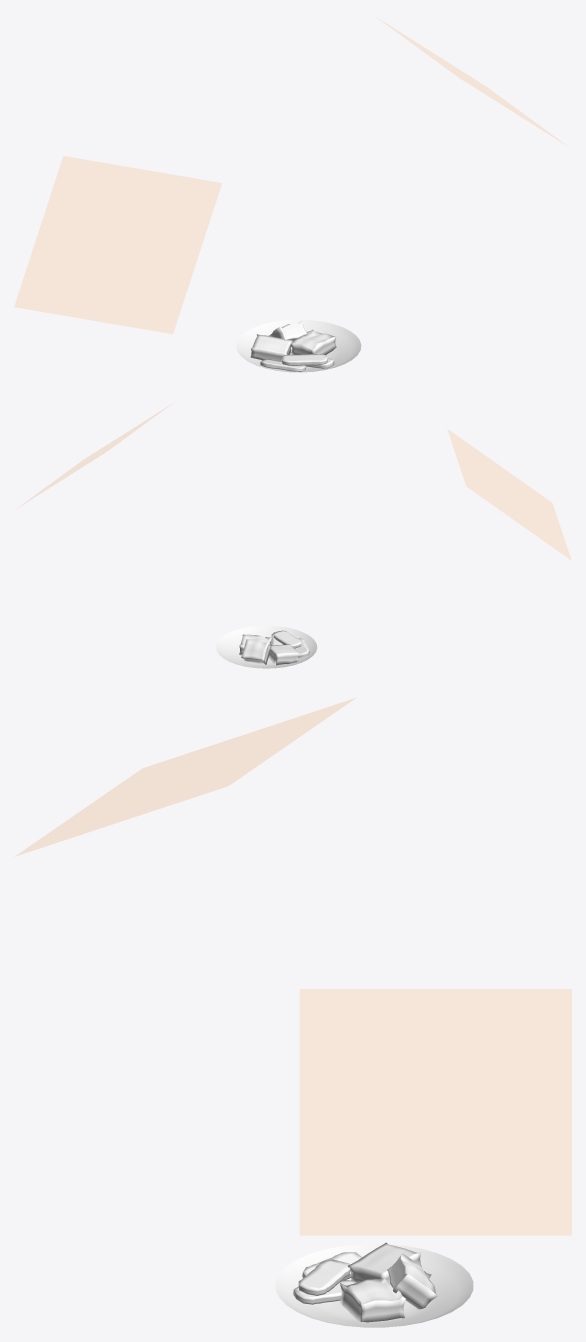
Rendered from gorengan.gltf.
3 views of the same model, one above another, from view 1: azimuth 30°, elevation 25°; view 2: azimuth 150°, elevation 25°; view 3: azimuth 270°, elevation 25° (orthographic). The views are drawn at different scales.
Parts seen in each view (by area): view 1: Plane.002, plate, Plane.001, tahu utuh, tahu utuh.001, tempe.001, tahu iris; view 2: Plane.002, plate, Plane.001, tahu iris, tahu utuh.001; view 3: Plane.001, Plane.002, plate, tahu utuh, tahu iris, tahu utuh.001, tempe.001.
Boxes of the visible parts, <box> form: Plane.002: <box>14,156,222,334</box>; plate: <box>236,319,361,372</box>; Plane.001: <box>375,16,569,147</box>; tahu utuh: <box>291,329,336,354</box>; tahu utuh.001: <box>250,334,292,361</box>; tempe.001: <box>281,354,327,365</box>; tahu iris: <box>268,321,307,340</box>; Plane.002: <box>447,428,571,560</box>; plate: <box>216,625,317,668</box>; Plane.001: <box>16,403,172,508</box>; tahu iris: <box>241,639,271,664</box>; tahu utuh.001: <box>268,644,299,665</box>; Plane.001: <box>299,989,571,1235</box>; Plane.002: <box>14,697,356,856</box>; plate: <box>275,1244,473,1327</box>; tahu utuh: <box>339,1278,405,1322</box>; tahu iris: <box>387,1253,437,1309</box>; tahu utuh.001: <box>348,1242,421,1282</box>; tempe.001: <box>298,1259,350,1295</box>.
Size of what is drawn, in the model's own units: 2.99 by 1.3 by 1.57.
